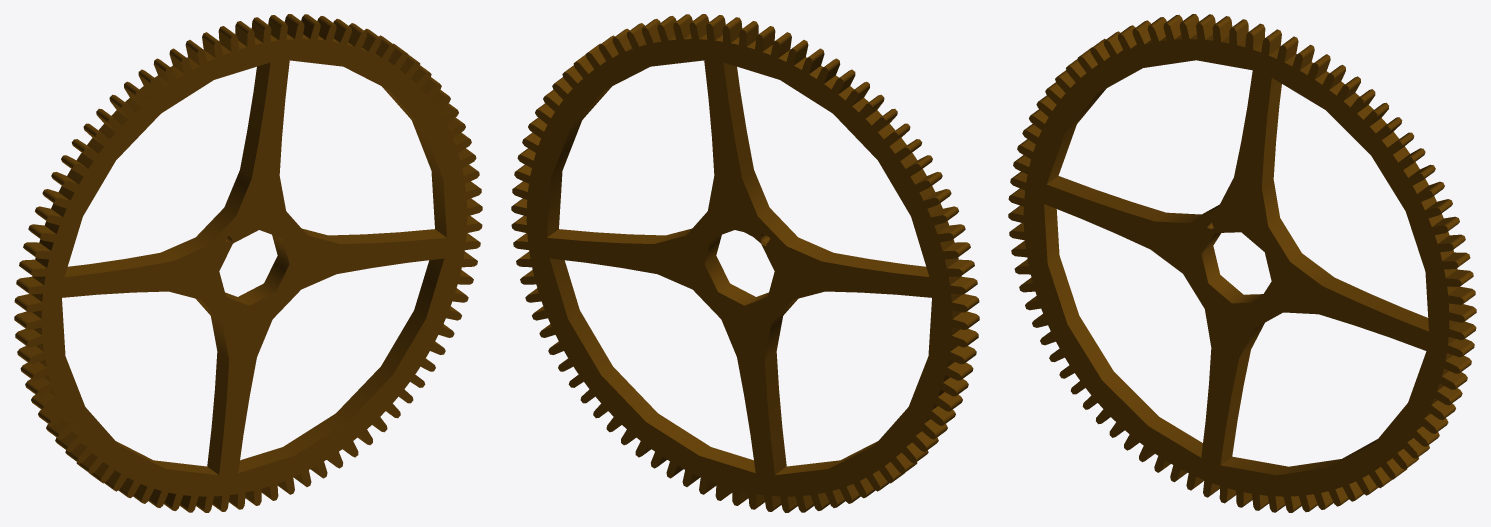
File: Roue dente_Premiere de sonnerie.obj
3 views of the same model, side by side, from view 1: azimuth 30°, elevation 25°; view 2: azimuth 150°, elevation 25°; view 3: azimuth 330°, elevation 25° (orthographic).
Parts seen in each view (by area): view 1: Face_2, Face_346, Face_352, Face_341, Face_351, Face_350, Face_355, Face_353, Face_347, Face_342; view 2: Face_1, Face_346, Face_352, Face_341, Face_351, Face_350, Face_355, Face_353, Face_347, Face_342; view 3: Face_2, Face_342, Face_348, Face_347, Face_353, Face_349, Face_355, Face_343, Face_346, Face_354.
Part boxes in pixels (x1,y1,x2,y2): Face_2: [26, 22, 482, 512]; Face_346: [238, 258, 443, 472]; Face_352: [160, 170, 251, 261]; Face_341: [207, 351, 229, 474]; Face_351: [240, 62, 270, 178]; Face_350: [382, 86, 446, 237]; Face_355: [225, 234, 289, 305]; Face_353: [64, 253, 171, 276]; Face_347: [329, 229, 446, 243]; Face_342: [116, 441, 218, 474]; Face_1: [511, 22, 967, 512]; Face_346: [550, 258, 755, 472]; Face_352: [742, 170, 833, 261]; Face_341: [764, 351, 786, 474]; Face_351: [723, 62, 753, 178]; Face_350: [547, 86, 611, 237]; Face_355: [704, 234, 768, 305]; Face_353: [822, 253, 929, 276]; Face_347: [547, 229, 664, 243]; Face_342: [775, 441, 877, 474]; Face_2: [1008, 22, 1464, 512]; Face_342: [1044, 204, 1202, 457]; Face_348: [1262, 179, 1333, 285]; Face_347: [1323, 277, 1428, 331]; Face_353: [1047, 176, 1165, 221]; Face_349: [1261, 78, 1281, 187]; Face_355: [1201, 233, 1263, 303]; Face_343: [1220, 350, 1250, 464]; Face_346: [1221, 439, 1377, 475]; Face_354: [1047, 88, 1106, 183].
Bounding box in the file's own units: 0.0709 × 0.0709 × 0.0032.
